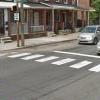Crosswalk: (7, 46, 92, 76)
